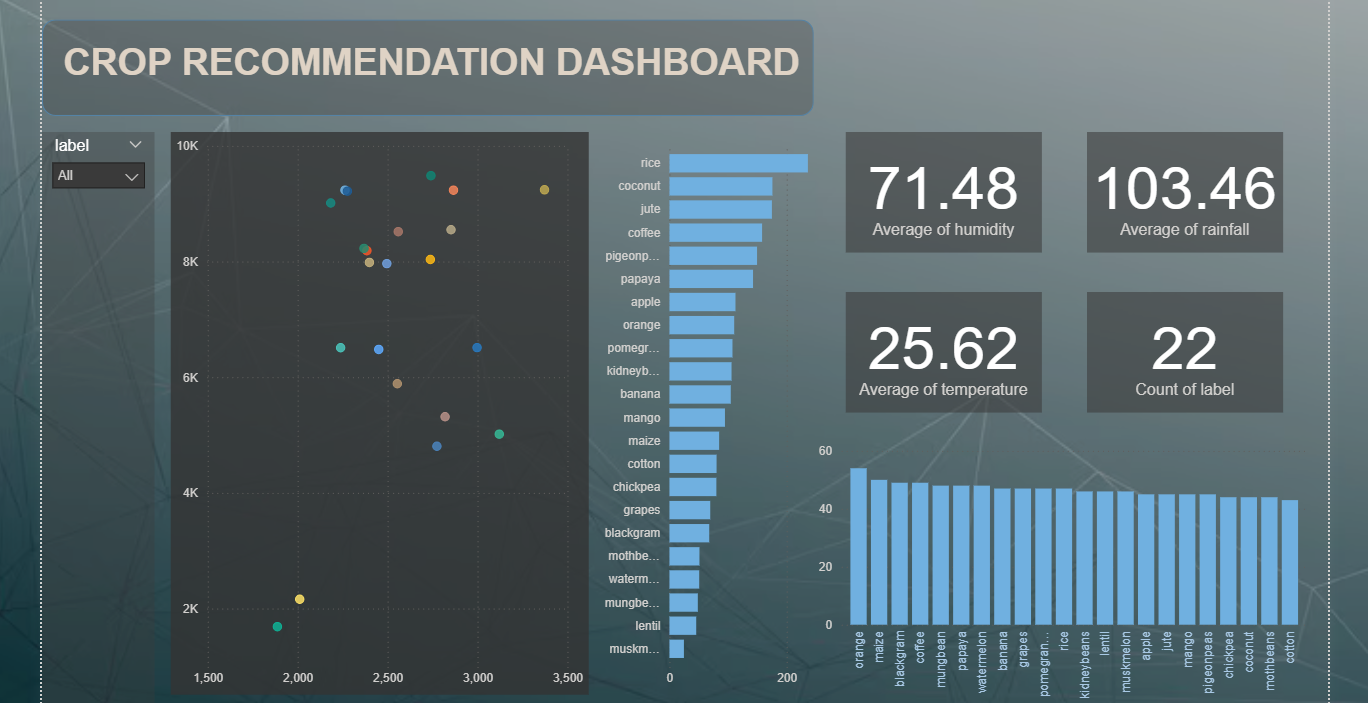

This screenshot's page, from the dashboard's own definition file:
{"tool":"powerbi","page":{"name":"Page 1","canvas":[1280,720],"ordinal":0},"visuals":[{"type":"card","fields":{"Values":["Avg(Crop_recommendation.temperature)"]},"box":[800,304,195,120],"z":0},{"type":"card","fields":{"Values":["Avg(Crop_recommendation.humidity)"]},"box":[800,144,195,120],"z":1000},{"type":"card","fields":{"Values":["Avg(Crop_recommendation.rainfall)"]},"box":[1040,144,195,120],"z":2000},{"type":"card","fields":{"Values":["Count(Crop_recommendation.label)"]},"box":[1040,304,195,120],"z":3000},{"type":"clusteredColumnChart","fields":{"Category":["Crop_recommendation.label"],"Y":["Count(Crop_recommendation.NPK_Average)"]},"box":[768,448,496,272],"z":4000},{"type":"shape","box":[0,32,768,96],"z":5000},{"type":"textbox","box":[16,48,752,64],"z":6000},{"type":"clusteredBarChart","fields":{"Category":["Crop_recommendation.label"],"Y":["Avg(Crop_recommendation.rainfall)"]},"box":[544,144,272,560],"z":8000},{"type":"slicer","fields":{"Values":["Crop_recommendation.label"]},"box":[0,144,112,576],"z":9000},{"type":"scatterChart","fields":{"X":["Sum(Crop_recommendation.temperature)"],"Y":["Sum(Crop_recommendation.humidity)"],"Series":["Crop_recommendation.label"]},"box":[128,144,416,560],"z":10000}]}

Visuals, with their boxes on the page's 1280x720 design canvas (x1, y1, x2, y2). These are canvas units, not pixel positions in the 1368x703 screenshot, which may show the page scaled, cropped or inside an application window:
card - Avg(Crop_recommendation.temperature): 800 304 995 424
card - Avg(Crop_recommendation.humidity): 800 144 995 264
card - Avg(Crop_recommendation.rainfall): 1040 144 1235 264
card - Count(Crop_recommendation.label): 1040 304 1235 424
clusteredColumnChart - Crop_recommendation.label x Count(Crop_recommendation.NPK_Average): 768 448 1264 720
shape: 0 32 768 128
textbox: 16 48 768 112
clusteredBarChart - Crop_recommendation.label x Avg(Crop_recommendation.rainfall): 544 144 816 704
slicer - Crop_recommendation.label: 0 144 112 720
scatterChart - Sum(Crop_recommendation.temperature) x Sum(Crop_recommendation.humidity): 128 144 544 704
